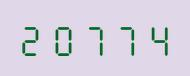four: (142, 20, 172, 56)
seven: (80, 20, 110, 56), (111, 20, 141, 56)
two: (18, 20, 48, 56)
zero: (49, 20, 79, 56)
